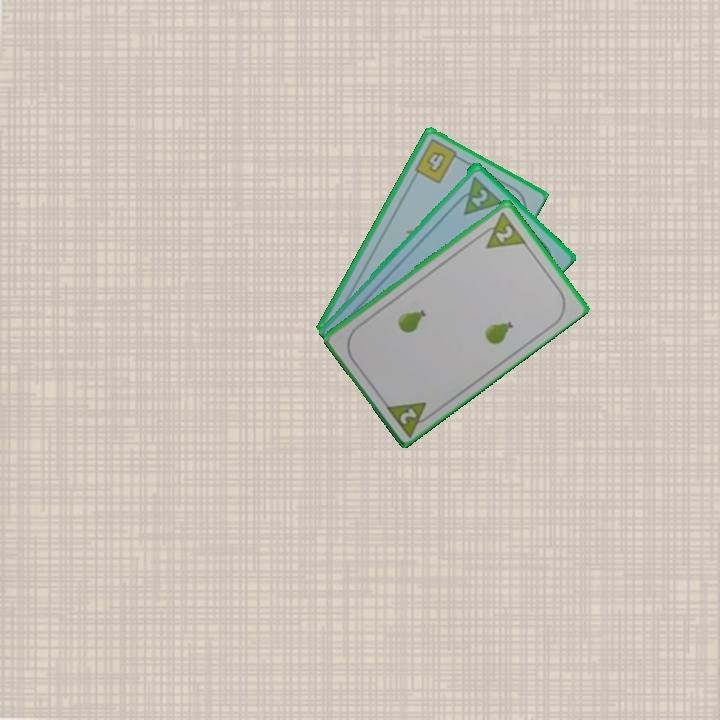2p: (451, 172, 504, 218), (475, 208, 528, 251), (396, 403, 420, 427)
4b: (410, 135, 465, 187)
